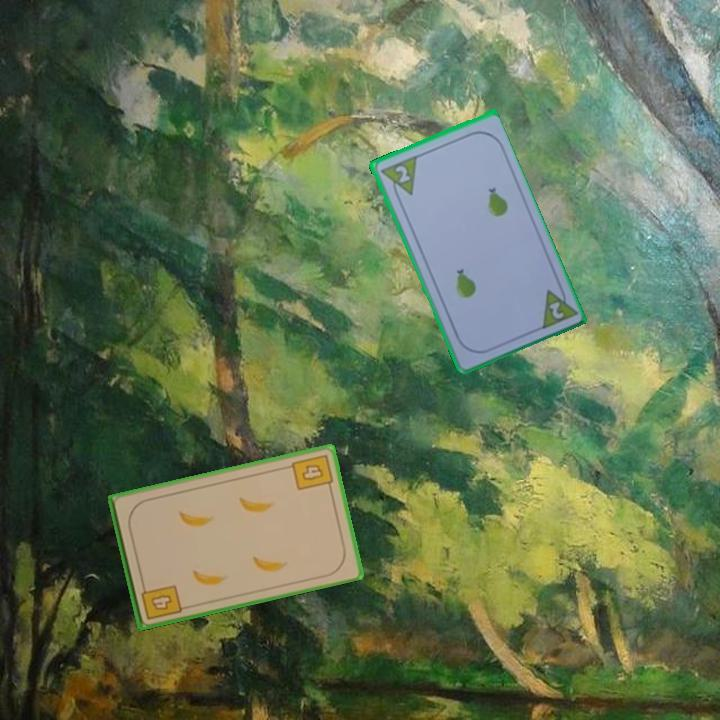2p: (391, 162, 413, 186), (545, 297, 566, 322)
4b: (137, 579, 184, 622), (288, 451, 335, 493)
